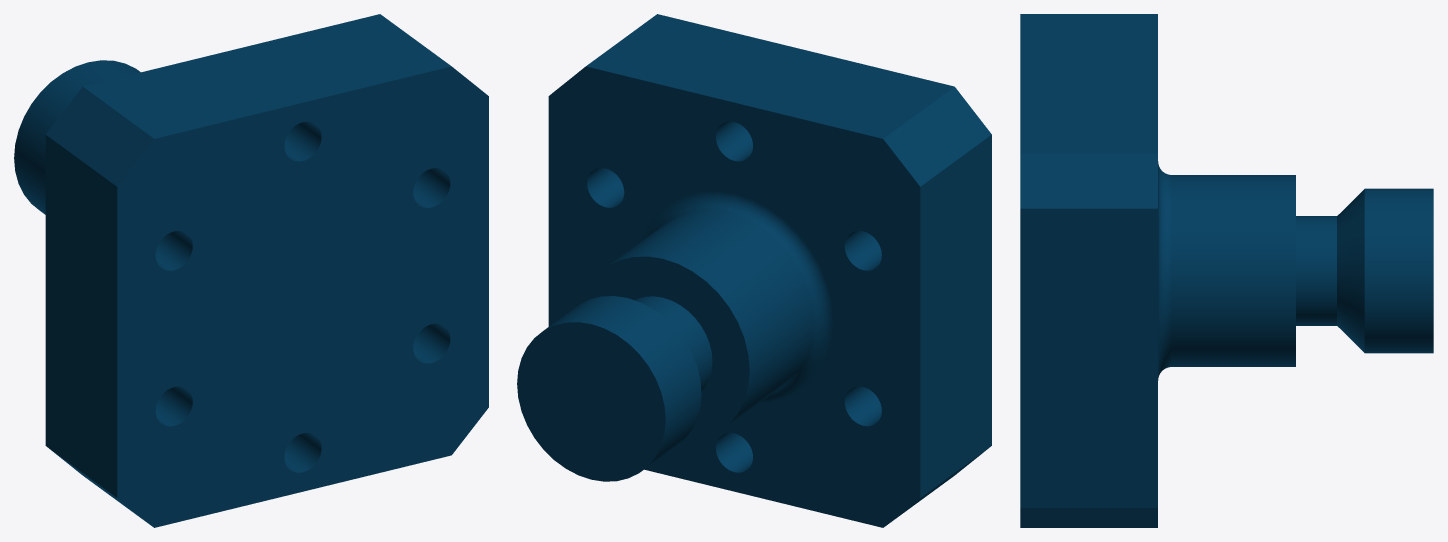
File: TutoSldw.glb
The picture shows the model from 3 angles, left to right: view 1: azimuth 30°, elevation 25°; view 2: azimuth 150°, elevation 25°; view 3: azimuth 270°, elevation 25°; orthographic projection. The views are drawn at different scales.
Parts seen in each view (by area): view 1: TutoSldw; view 2: TutoSldw; view 3: TutoSldw.
Boxes of the visible parts, x1,y1,x2,y2 form: TutoSldw: (14,14,488,527); TutoSldw: (517,14,991,527); TutoSldw: (1020,14,1433,527).
Bounding box in the file's own units: 0.03 × 0.03 × 0.03.
